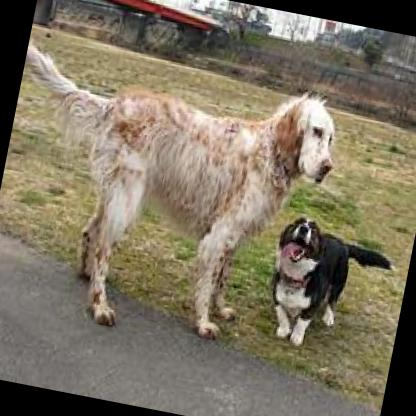English_setter: (0, 36, 346, 362), (258, 209, 396, 356)
